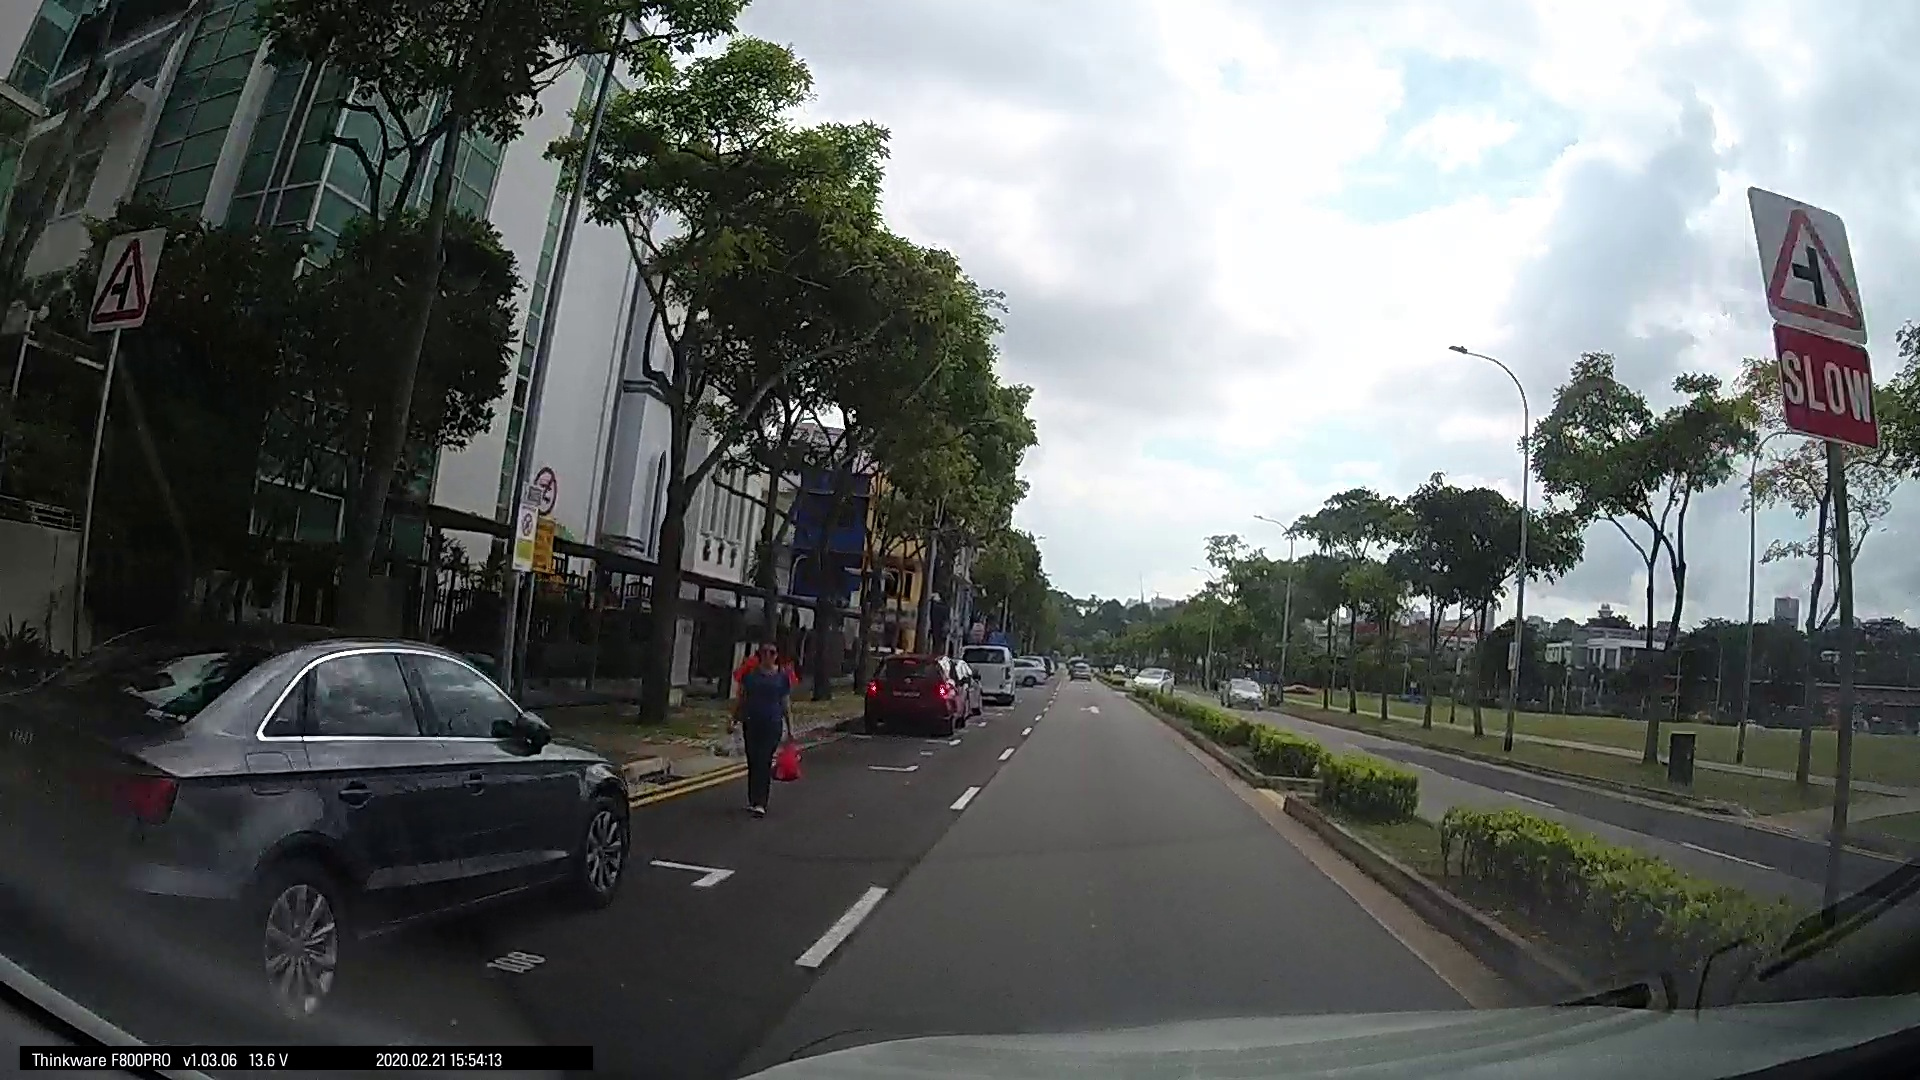Heavy Vehicle: (26, 394, 451, 1029), (1673, 549, 1919, 868), (816, 621, 893, 702)
Light Vehicle: (396, 582, 761, 890), (1286, 667, 1427, 769), (742, 638, 819, 760), (1059, 647, 1116, 698), (953, 655, 1006, 699)
